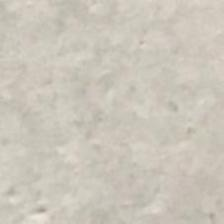Non_Crack: (25, 37, 186, 192)
